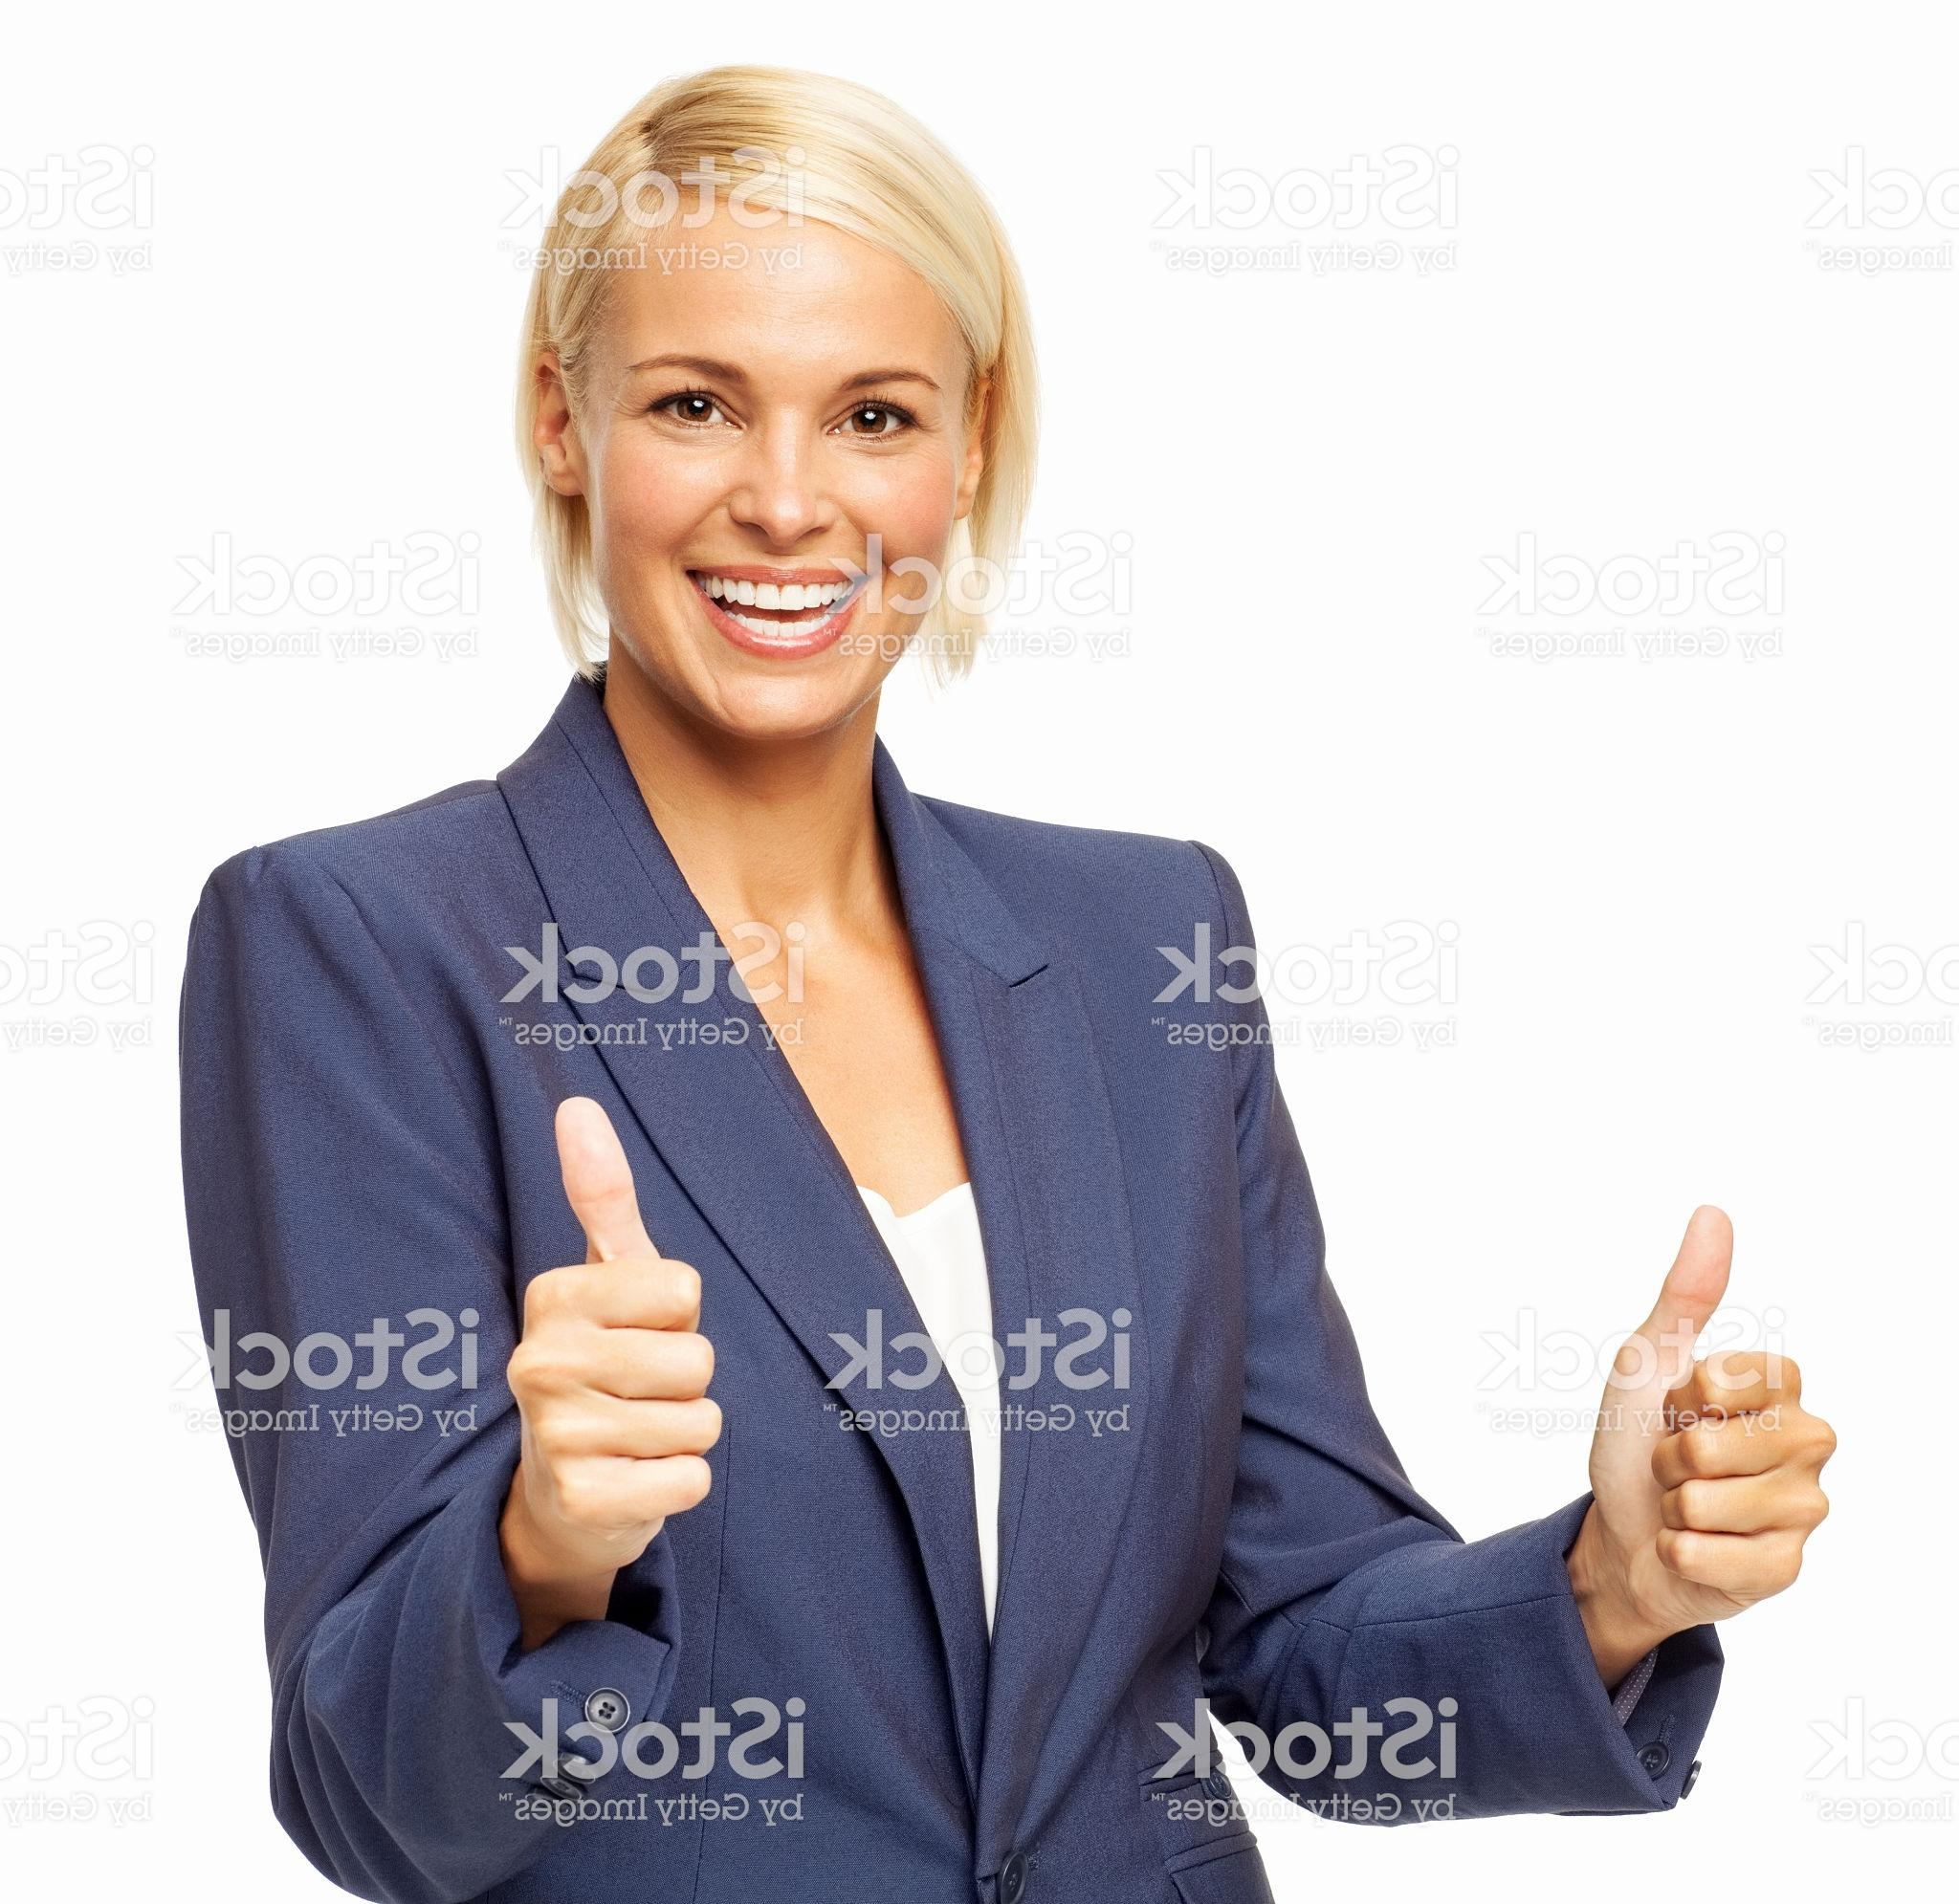thumbsup: (1581, 1201, 1844, 1635), (504, 1091, 724, 1549)
